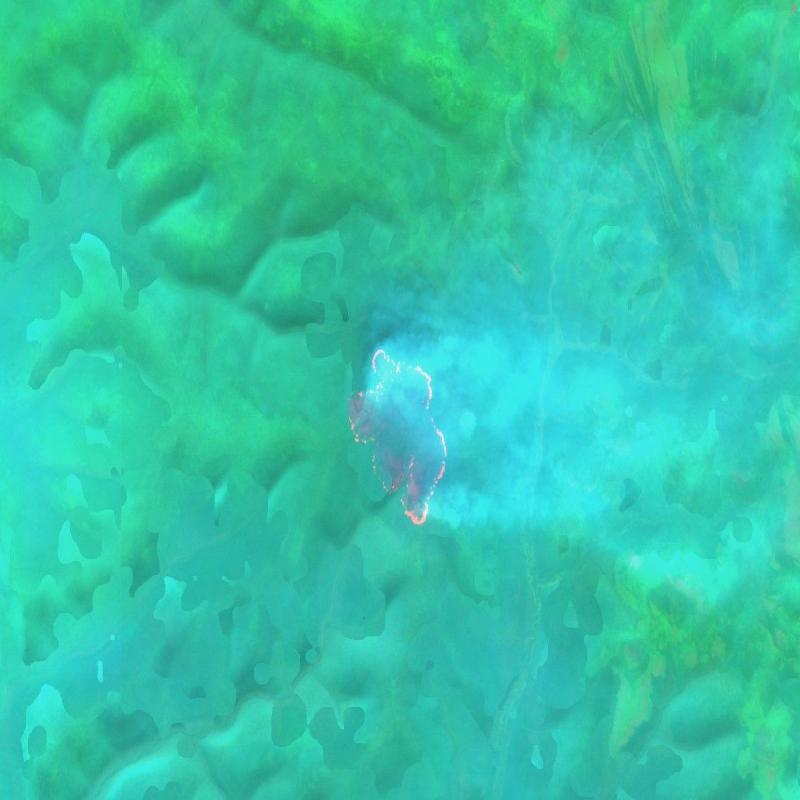fire: (346, 343, 454, 528)
